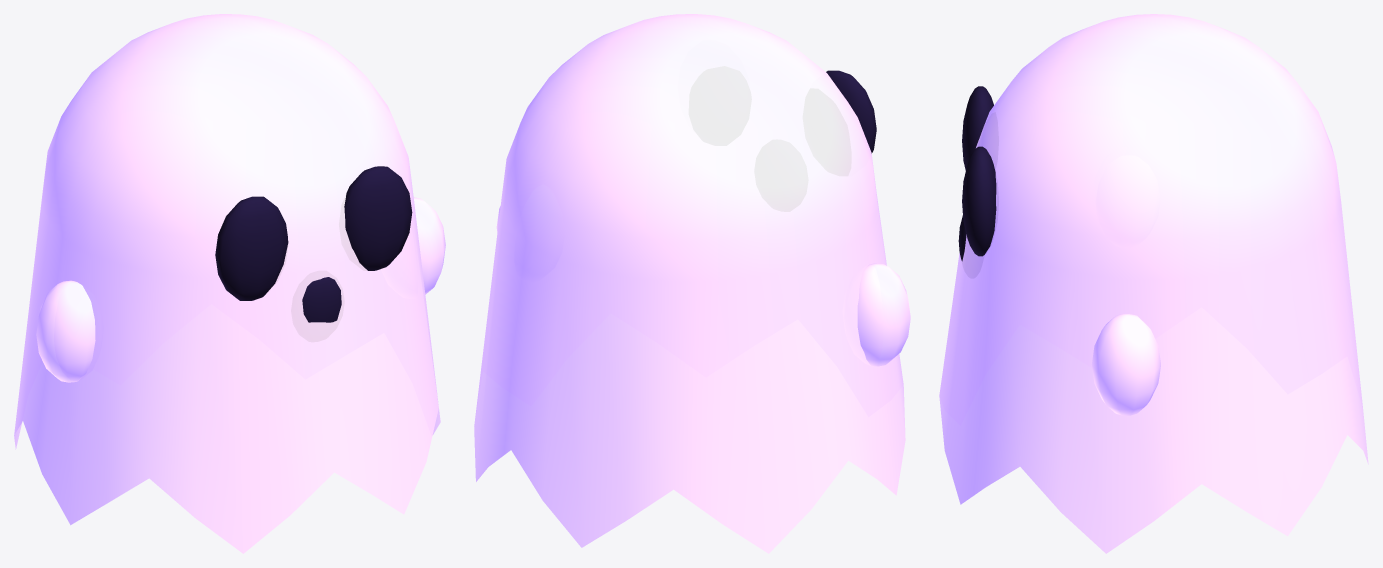
The model's file is ghost.glb.
The picture shows the model from 3 angles, left to right: view 1: azimuth 30°, elevation 25°; view 2: azimuth 150°, elevation 25°; view 3: azimuth 270°, elevation 25°; orthographic projection.
Visible parts, largest first — view 1: Ghost; view 2: Ghost; view 3: Ghost.
Boxes of the visible parts, bbox=[...] form: Ghost: bbox=[14, 14, 445, 553]; Ghost: bbox=[474, 14, 910, 553]; Ghost: bbox=[939, 14, 1368, 553].
Size of the model in its own units: 0.8398 by 0.87 by 0.78.
